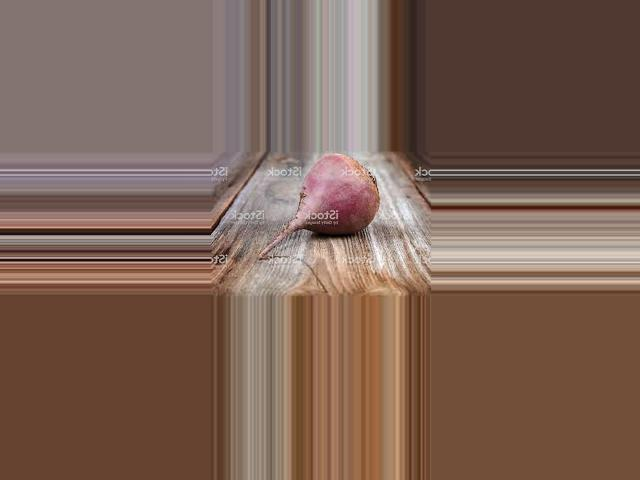beet: (257, 153, 379, 259)
